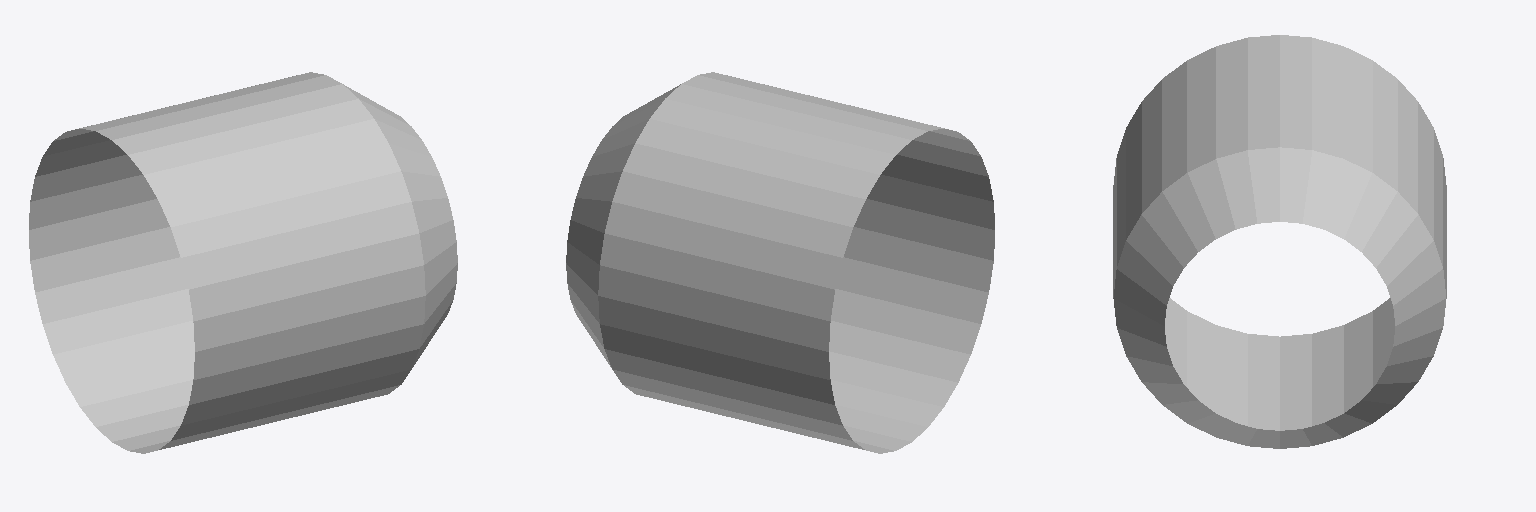
Rendered from cannon_beam.obj.
3 renders of one model, left to right at view 1: azimuth 30°, elevation 25°; view 2: azimuth 150°, elevation 25°; view 3: azimuth 270°, elevation 25°, orthographic.
Parts seen in each view (by area): view 1: Cylinder; view 2: Cylinder; view 3: Cylinder.
Part boxes in pixels (left/top/right/bottom): Cylinder: left=29, top=72, right=457, bottom=453; Cylinder: left=566, top=72, right=994, bottom=453; Cylinder: left=1113, top=35, right=1446, bottom=448.
Bounding box in the file's own units: 2 × 2 × 2.